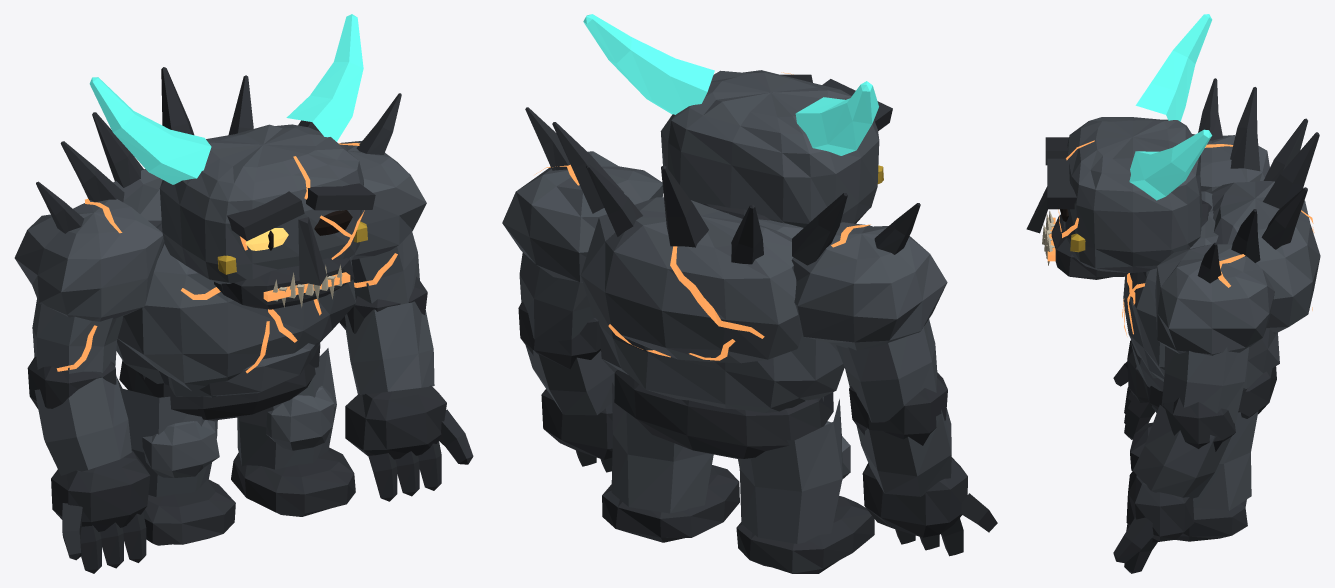
File: primordia_bruk.glb
3 renders of one model, left to right at view 1: azimuth 30°, elevation 25°; view 2: azimuth 150°, elevation 25°; view 3: azimuth 270°, elevation 25°, orthographic. The views are drawn at different scales.
Parts seen in each view (by area): view 1: Torso, Head, ArmR, ArmL, LegL, LegR, Hips, Eye; view 2: Torso, Head, ArmR, LegR, ArmL, LegL, Hips; view 3: Torso, Head, ArmL, LegL, ArmR, Hips, LegR.
Boxes of the visible parts, bbox=[...] form: Torso: bbox=[14, 67, 426, 397]; Head: bbox=[89, 14, 375, 309]; ArmR: bbox=[27, 298, 150, 573]; ArmL: bbox=[339, 232, 473, 501]; LegL: bbox=[231, 348, 355, 516]; LegR: bbox=[117, 378, 235, 545]; Hips: bbox=[119, 343, 320, 420]; Eye: bbox=[245, 228, 288, 250]; Torso: bbox=[502, 107, 947, 412]; Head: bbox=[583, 14, 892, 227]; ArmR: bbox=[836, 319, 997, 556]; LegR: bbox=[736, 399, 874, 573]; ArmL: bbox=[518, 252, 614, 472]; LegL: bbox=[602, 382, 739, 542]; Hips: bbox=[614, 370, 833, 458]; Torso: bbox=[1122, 78, 1320, 397]; Head: bbox=[1026, 14, 1212, 279]; ArmL: bbox=[1113, 346, 1249, 573]; LegL: bbox=[1175, 411, 1258, 541]; ArmR: bbox=[1113, 340, 1155, 439]; Hips: bbox=[1142, 366, 1276, 418]; LegR: bbox=[1130, 405, 1157, 470].
Size of the model in its own units: 3.04 by 3.32 by 2.06.
